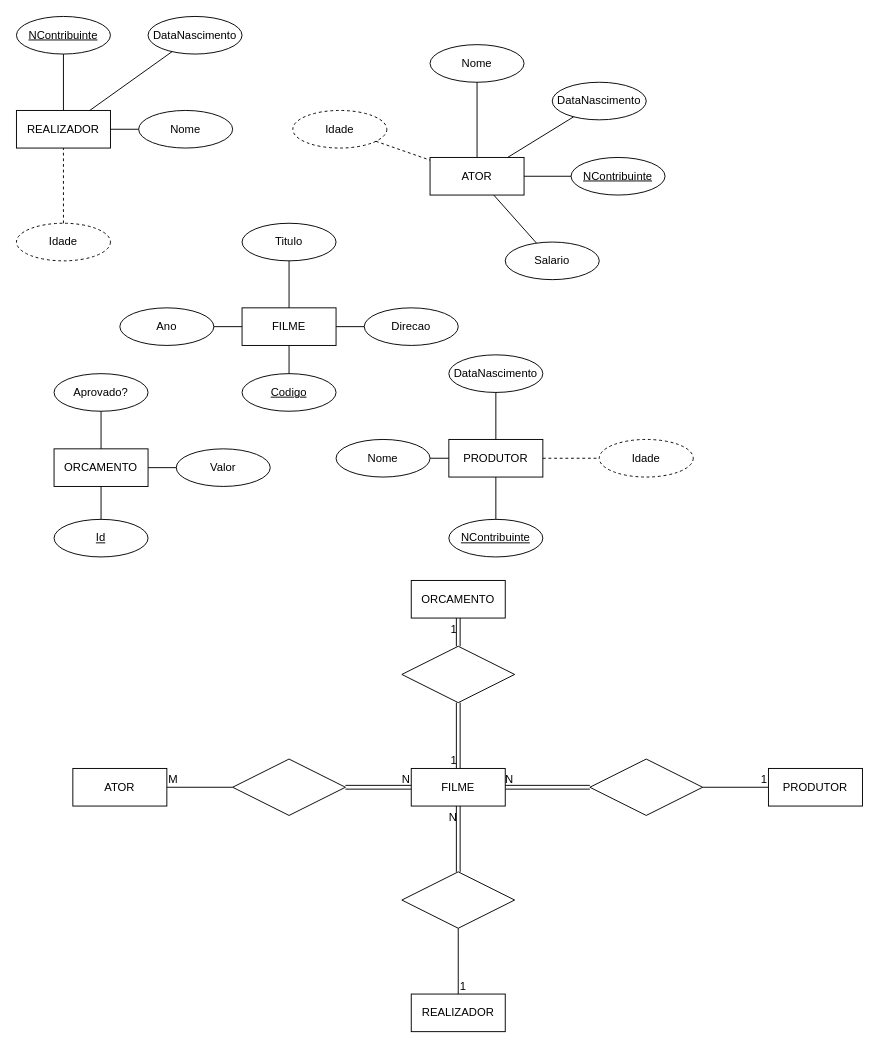
Image size: 879x1048. Some labels were removed from this diagram. Here are the shapes that lost their labels. From the top down, the centre of each, then its label:
the point at 458,674: POSSUEM
the point at 288,786: ENTRA_EM
the point at 646,786: PRODUTOR_DE
the point at 458,899: REALIZA
